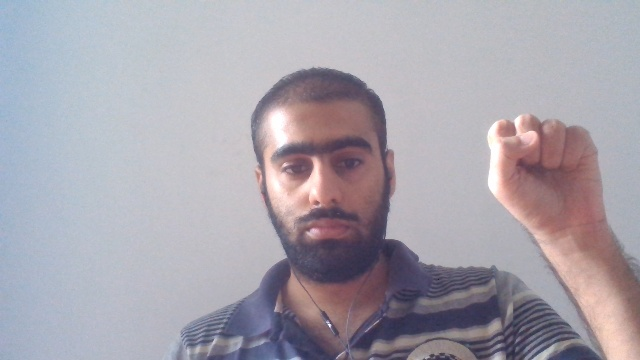rock: (485, 112, 617, 239)
